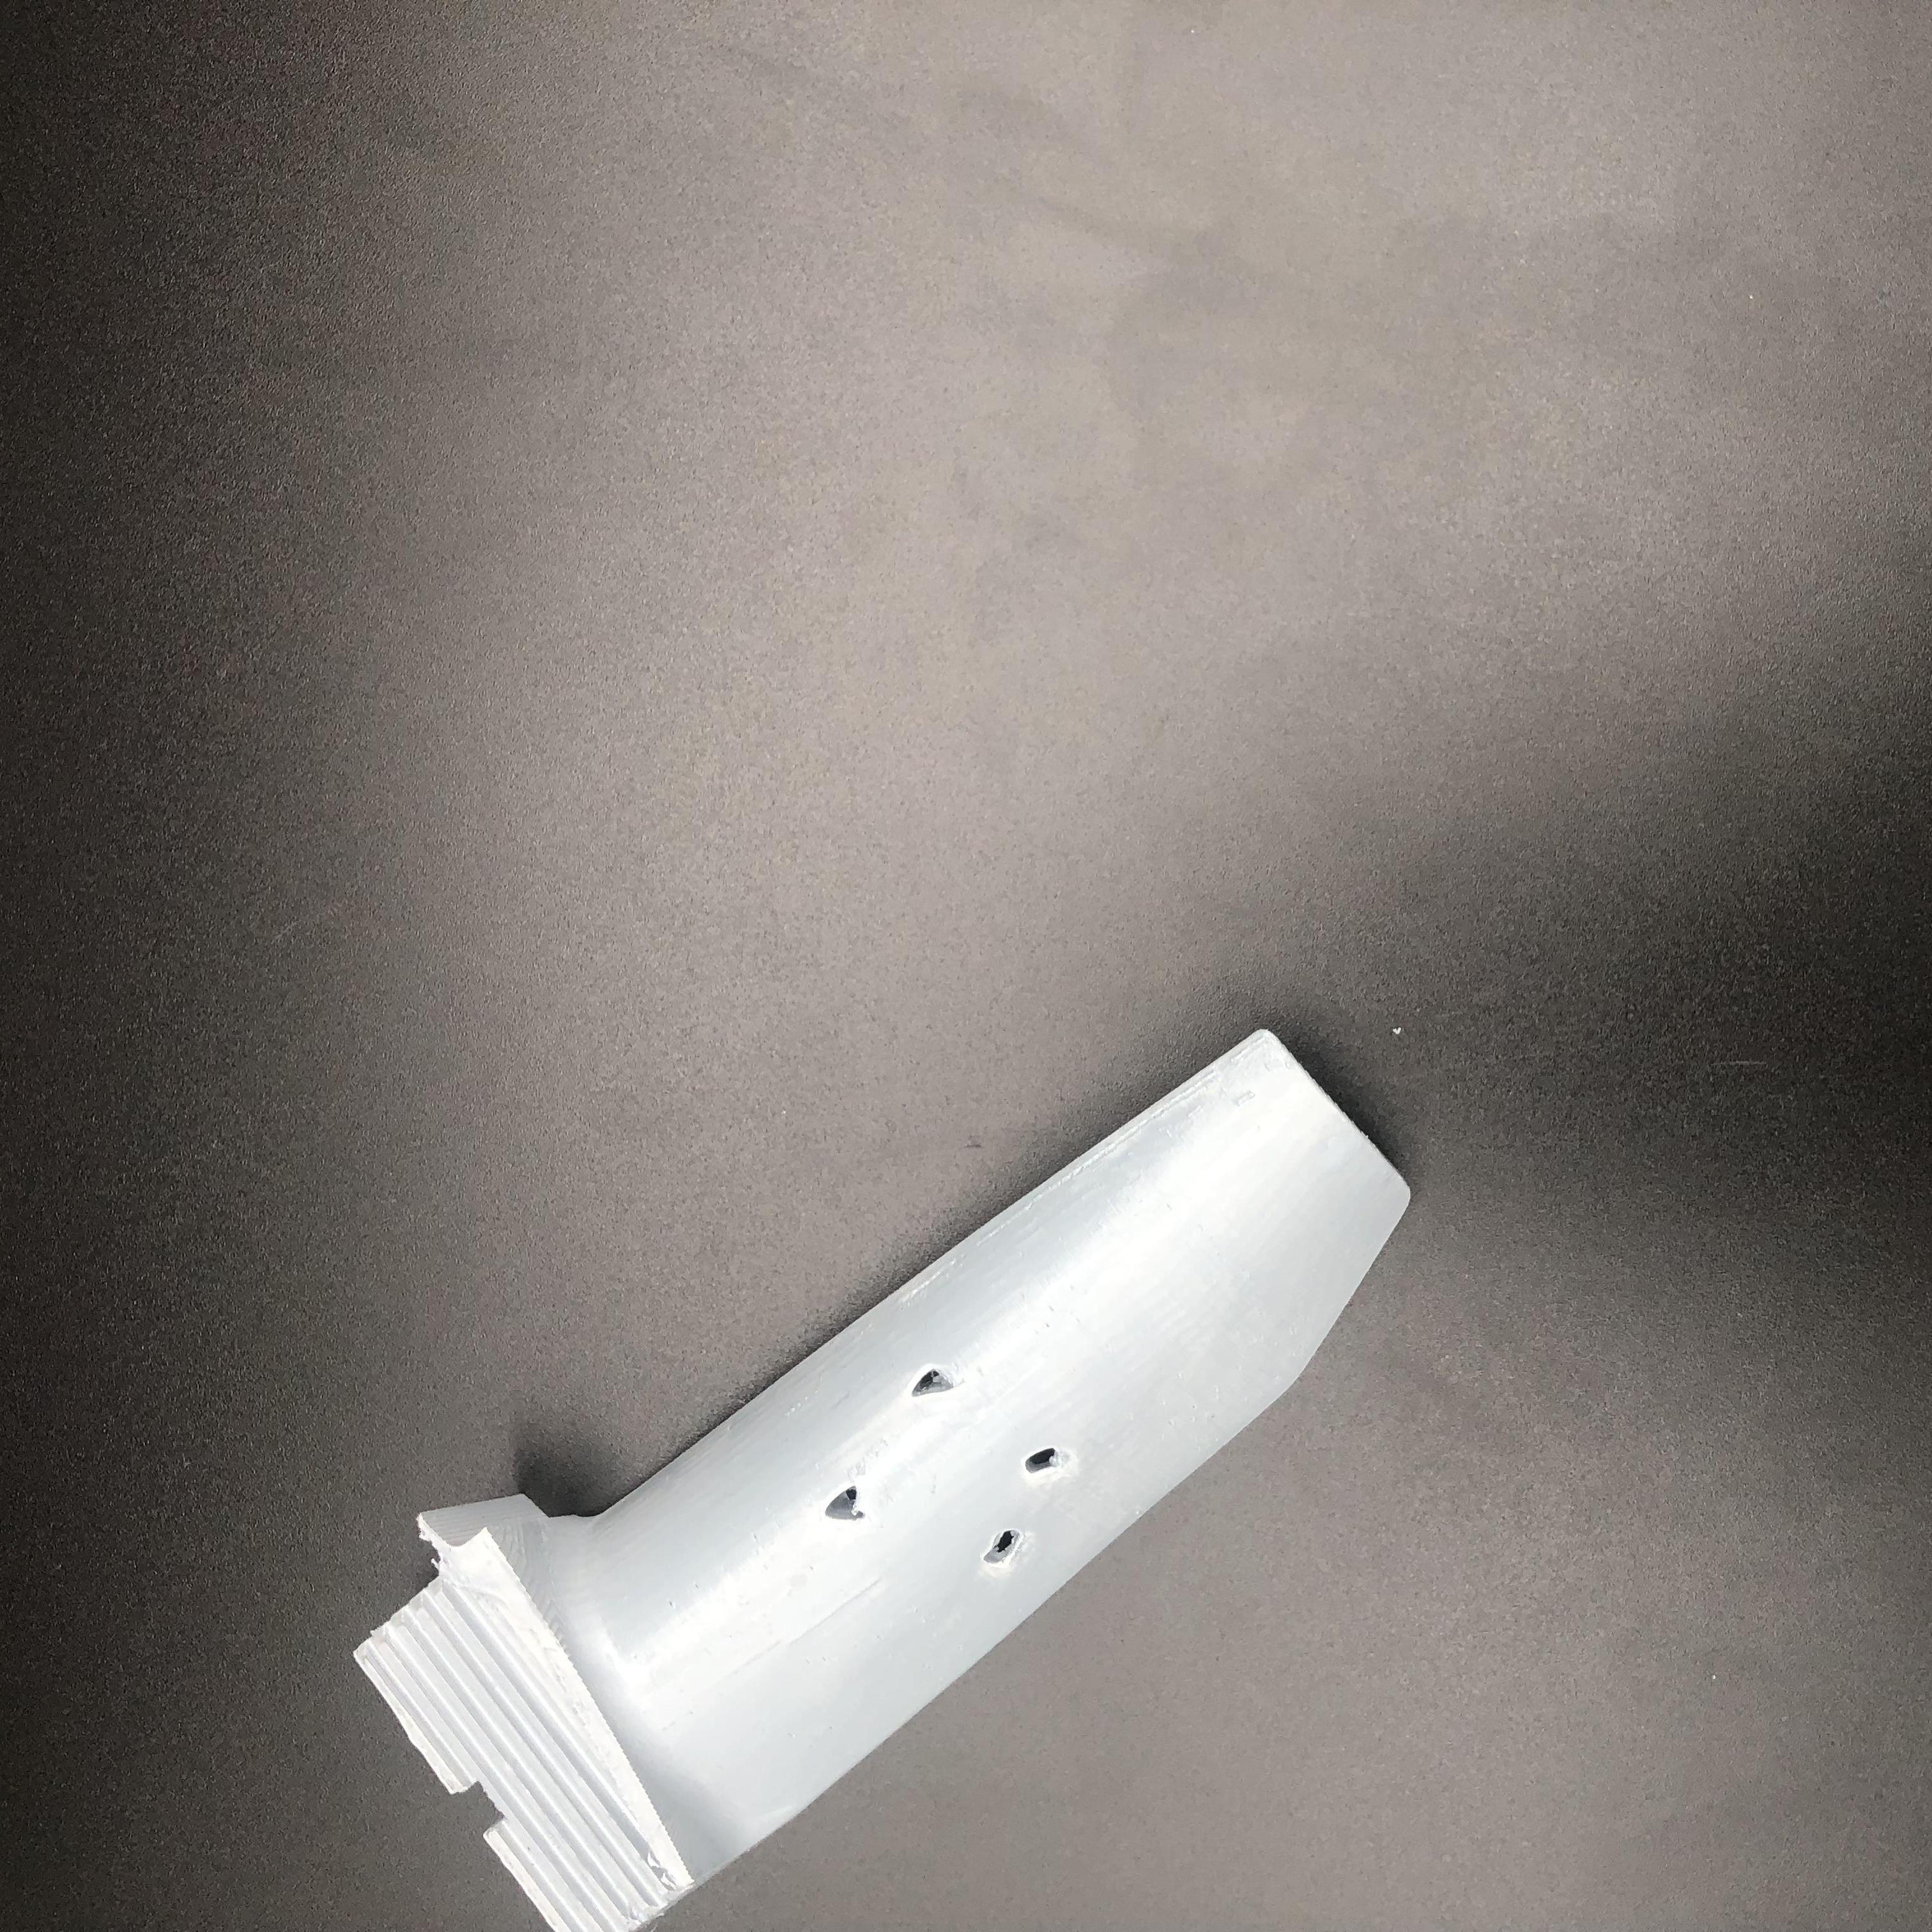breakdown: (832, 1364, 1079, 1571)
